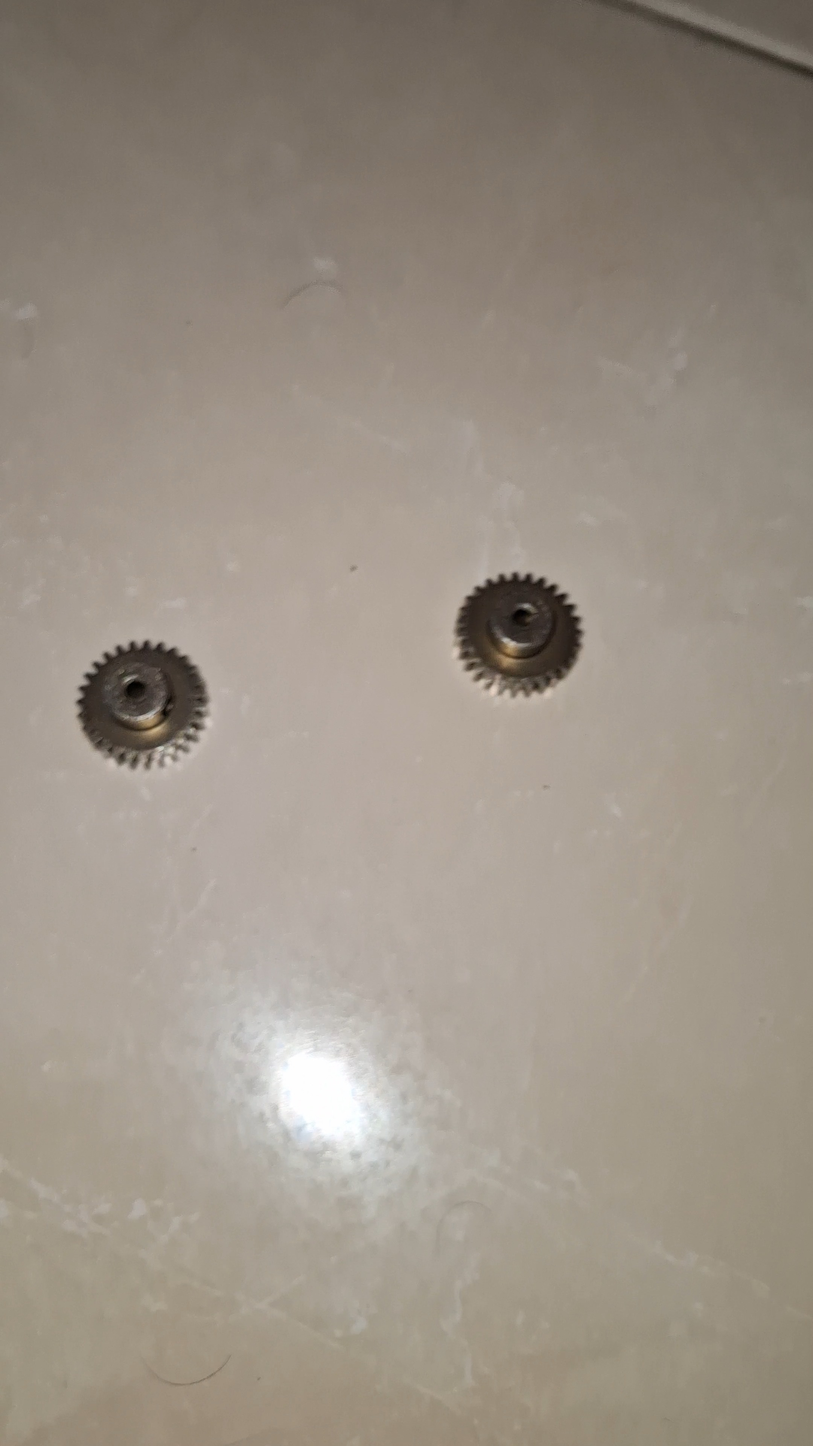spur gear: (60, 664, 186, 788), (428, 591, 550, 709)
